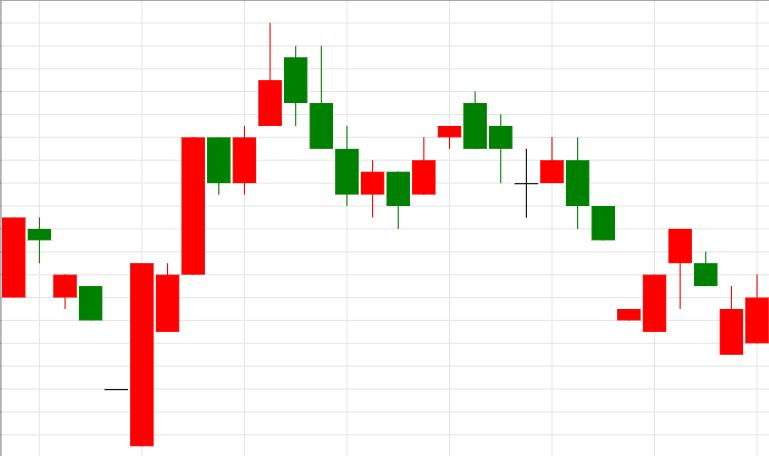three_black_crows_fall: (131, 23, 358, 447)
